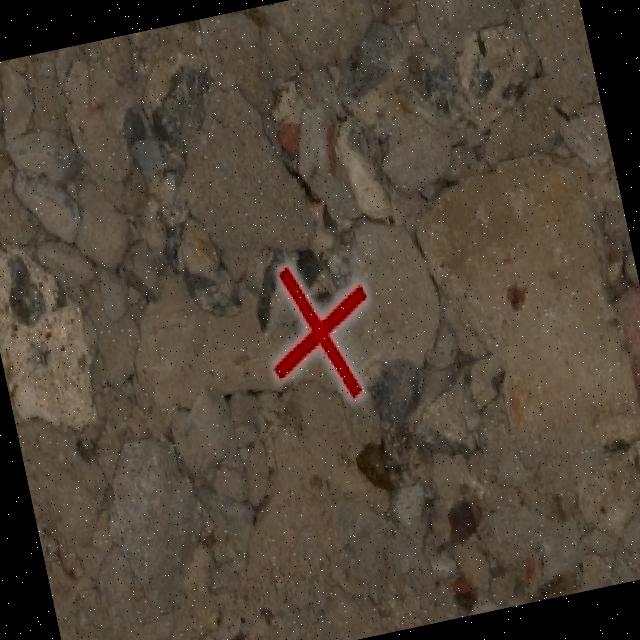x_marker: (253, 251, 384, 411)
